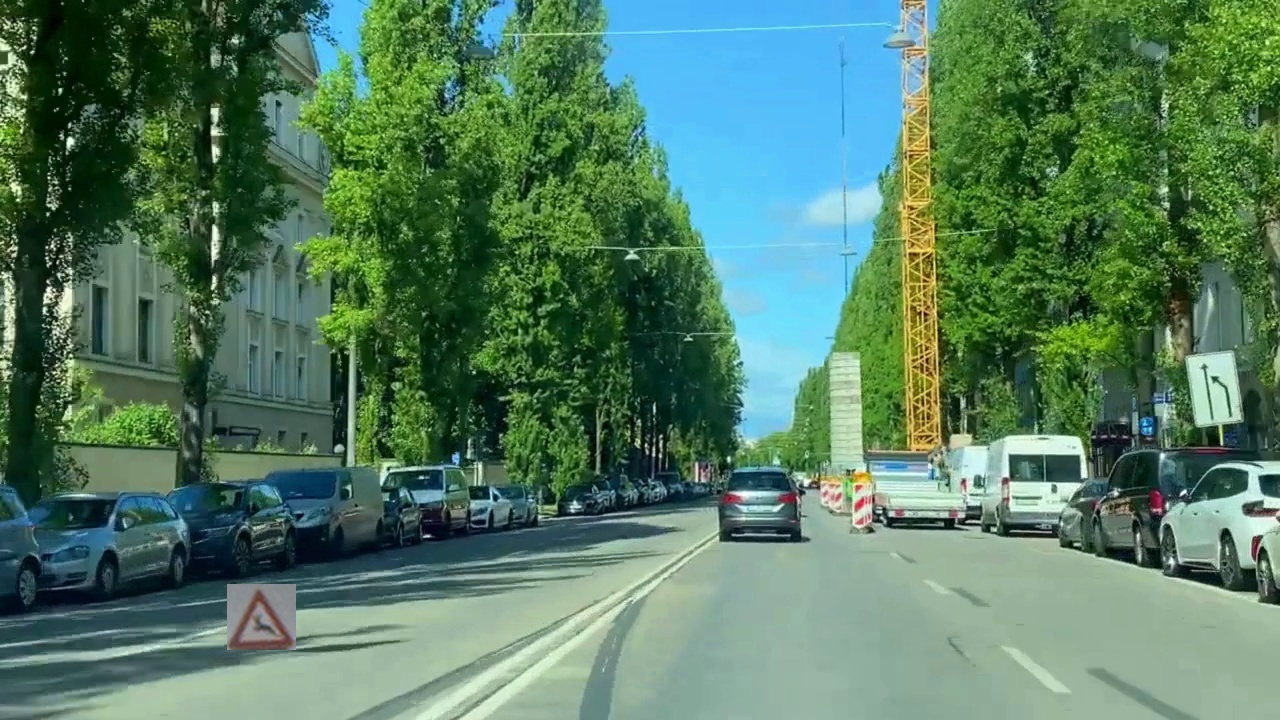Wild animals: (227, 584, 296, 650)
